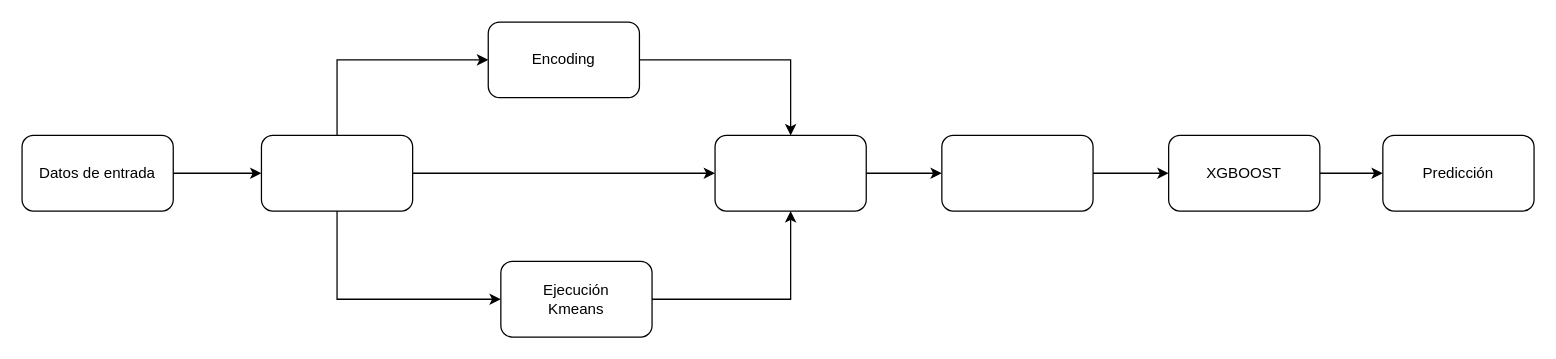
Image size: 1556x359. Some labels were removed from this diagram. Each missing label, with the centre of its shape:
Base de Calificación: the point at 790,172
Filtro de Implementación: the point at 1017,172
Selección de variables: the point at 336,172
